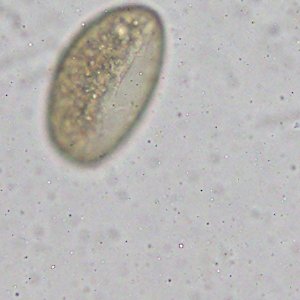Fasciola_hepatica_egg: (44, 2, 165, 169)
